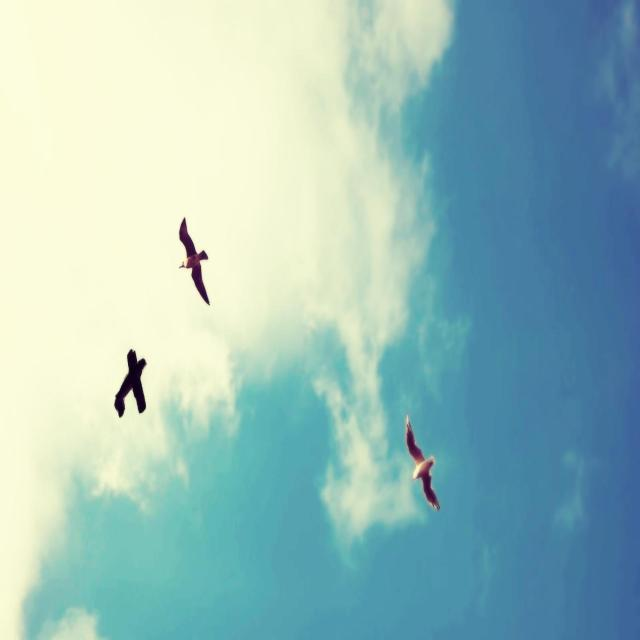airplane: (114, 348, 147, 417)
